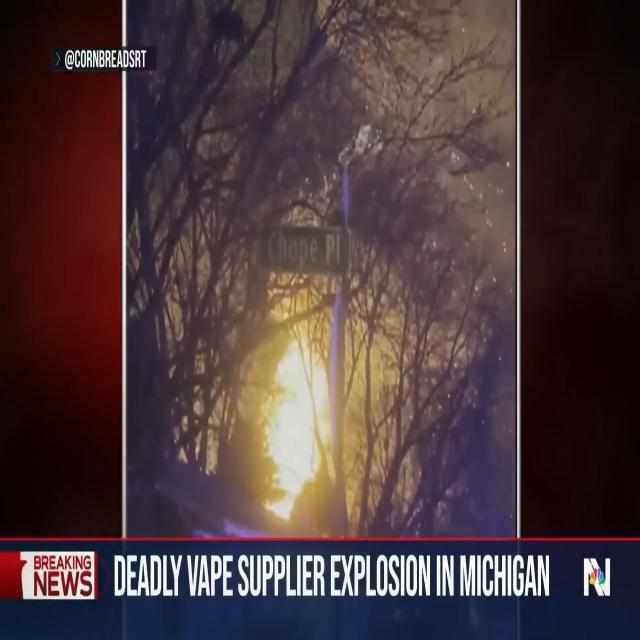fire: (245, 316, 340, 528)
